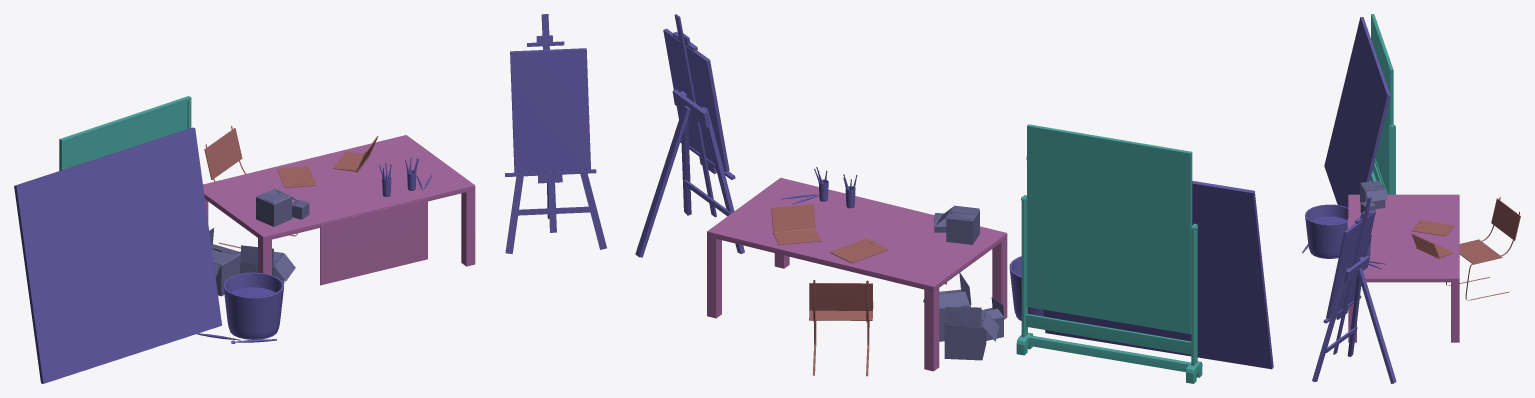
Rendered from Art_Stall.fbx.
The picture shows the model from 3 angles, left to right: view 1: azimuth 30°, elevation 25°; view 2: azimuth 150°, elevation 25°; view 3: azimuth 270°, elevation 25°; orthographic projection. The views are drawn at different scales.
Parts seen in each view (by area): view 1: Canvas_on_easel1, pCube1, Canvas_on_easel, Name_Board, Mirror_Mirror, Glass_Cylinder1, Easel1, pCube12, Box_Closed, pCube3, Box_Ajar2, Box_Ajar (+1 smaller); view 2: Mirror_Mirror, pCube1, Canvas_on_easel1, Mirror_Stand, Easel1, Canvas_on_easel, Box_Ajar, pCube12, pCube5, Box_Closed, pCube4, pCube2 (+4 smaller); view 3: pCube1, Canvas_on_easel1, Easel1, Glass_Cylinder1, Canvas_on_easel, Mirror_Mirror, pCube12, pCube14, Mirror_Stand, Box_Closed, pCube4, polySurface27 (+3 smaller).
Boxes of the visible parts, x1,y1,x2,y2 form: Canvas_on_easel1: (14, 127, 221, 383); pCube1: (203, 135, 475, 241); Canvas_on_easel: (510, 48, 590, 172); Name_Board: (320, 198, 427, 285); Mirror_Mirror: (59, 96, 191, 170); Glass_Cylinder1: (223, 272, 283, 339); Easel1: (505, 14, 606, 253); pCube12: (204, 128, 242, 179); Box_Closed: (256, 188, 298, 226); pCube3: (461, 186, 475, 266); Box_Ajar2: (240, 245, 295, 283); Box_Ajar: (209, 228, 240, 296); Mirror_Mirror: (1027, 124, 1192, 334); pCube1: (707, 177, 1007, 291); Canvas_on_easel1: (1026, 156, 1273, 369); Mirror_Stand: (1016, 195, 1202, 383); Easel1: (635, 14, 744, 257); Canvas_on_easel: (663, 28, 729, 172); Box_Ajar: (944, 304, 999, 360); pCube12: (809, 283, 872, 310); pCube5: (924, 288, 939, 371); Box_Closed: (936, 205, 979, 244); pCube4: (707, 232, 721, 318); pCube2: (992, 234, 1007, 319); pCube1: (1348, 194, 1459, 282); Canvas_on_easel1: (1324, 17, 1390, 207); Easel1: (1312, 196, 1396, 383); Glass_Cylinder1: (1305, 204, 1348, 258); Canvas_on_easel: (1326, 210, 1375, 318); Mirror_Mirror: (1371, 14, 1393, 194); pCube12: (1491, 198, 1520, 240); pCube14: (1459, 239, 1502, 264); Mirror_Stand: (1370, 124, 1395, 194); Box_Closed: (1360, 181, 1387, 208); pCube4: (1451, 279, 1459, 342); polySurface27: (1411, 233, 1439, 257).
Size of the model in its own units: 592 by 224 by 247.
